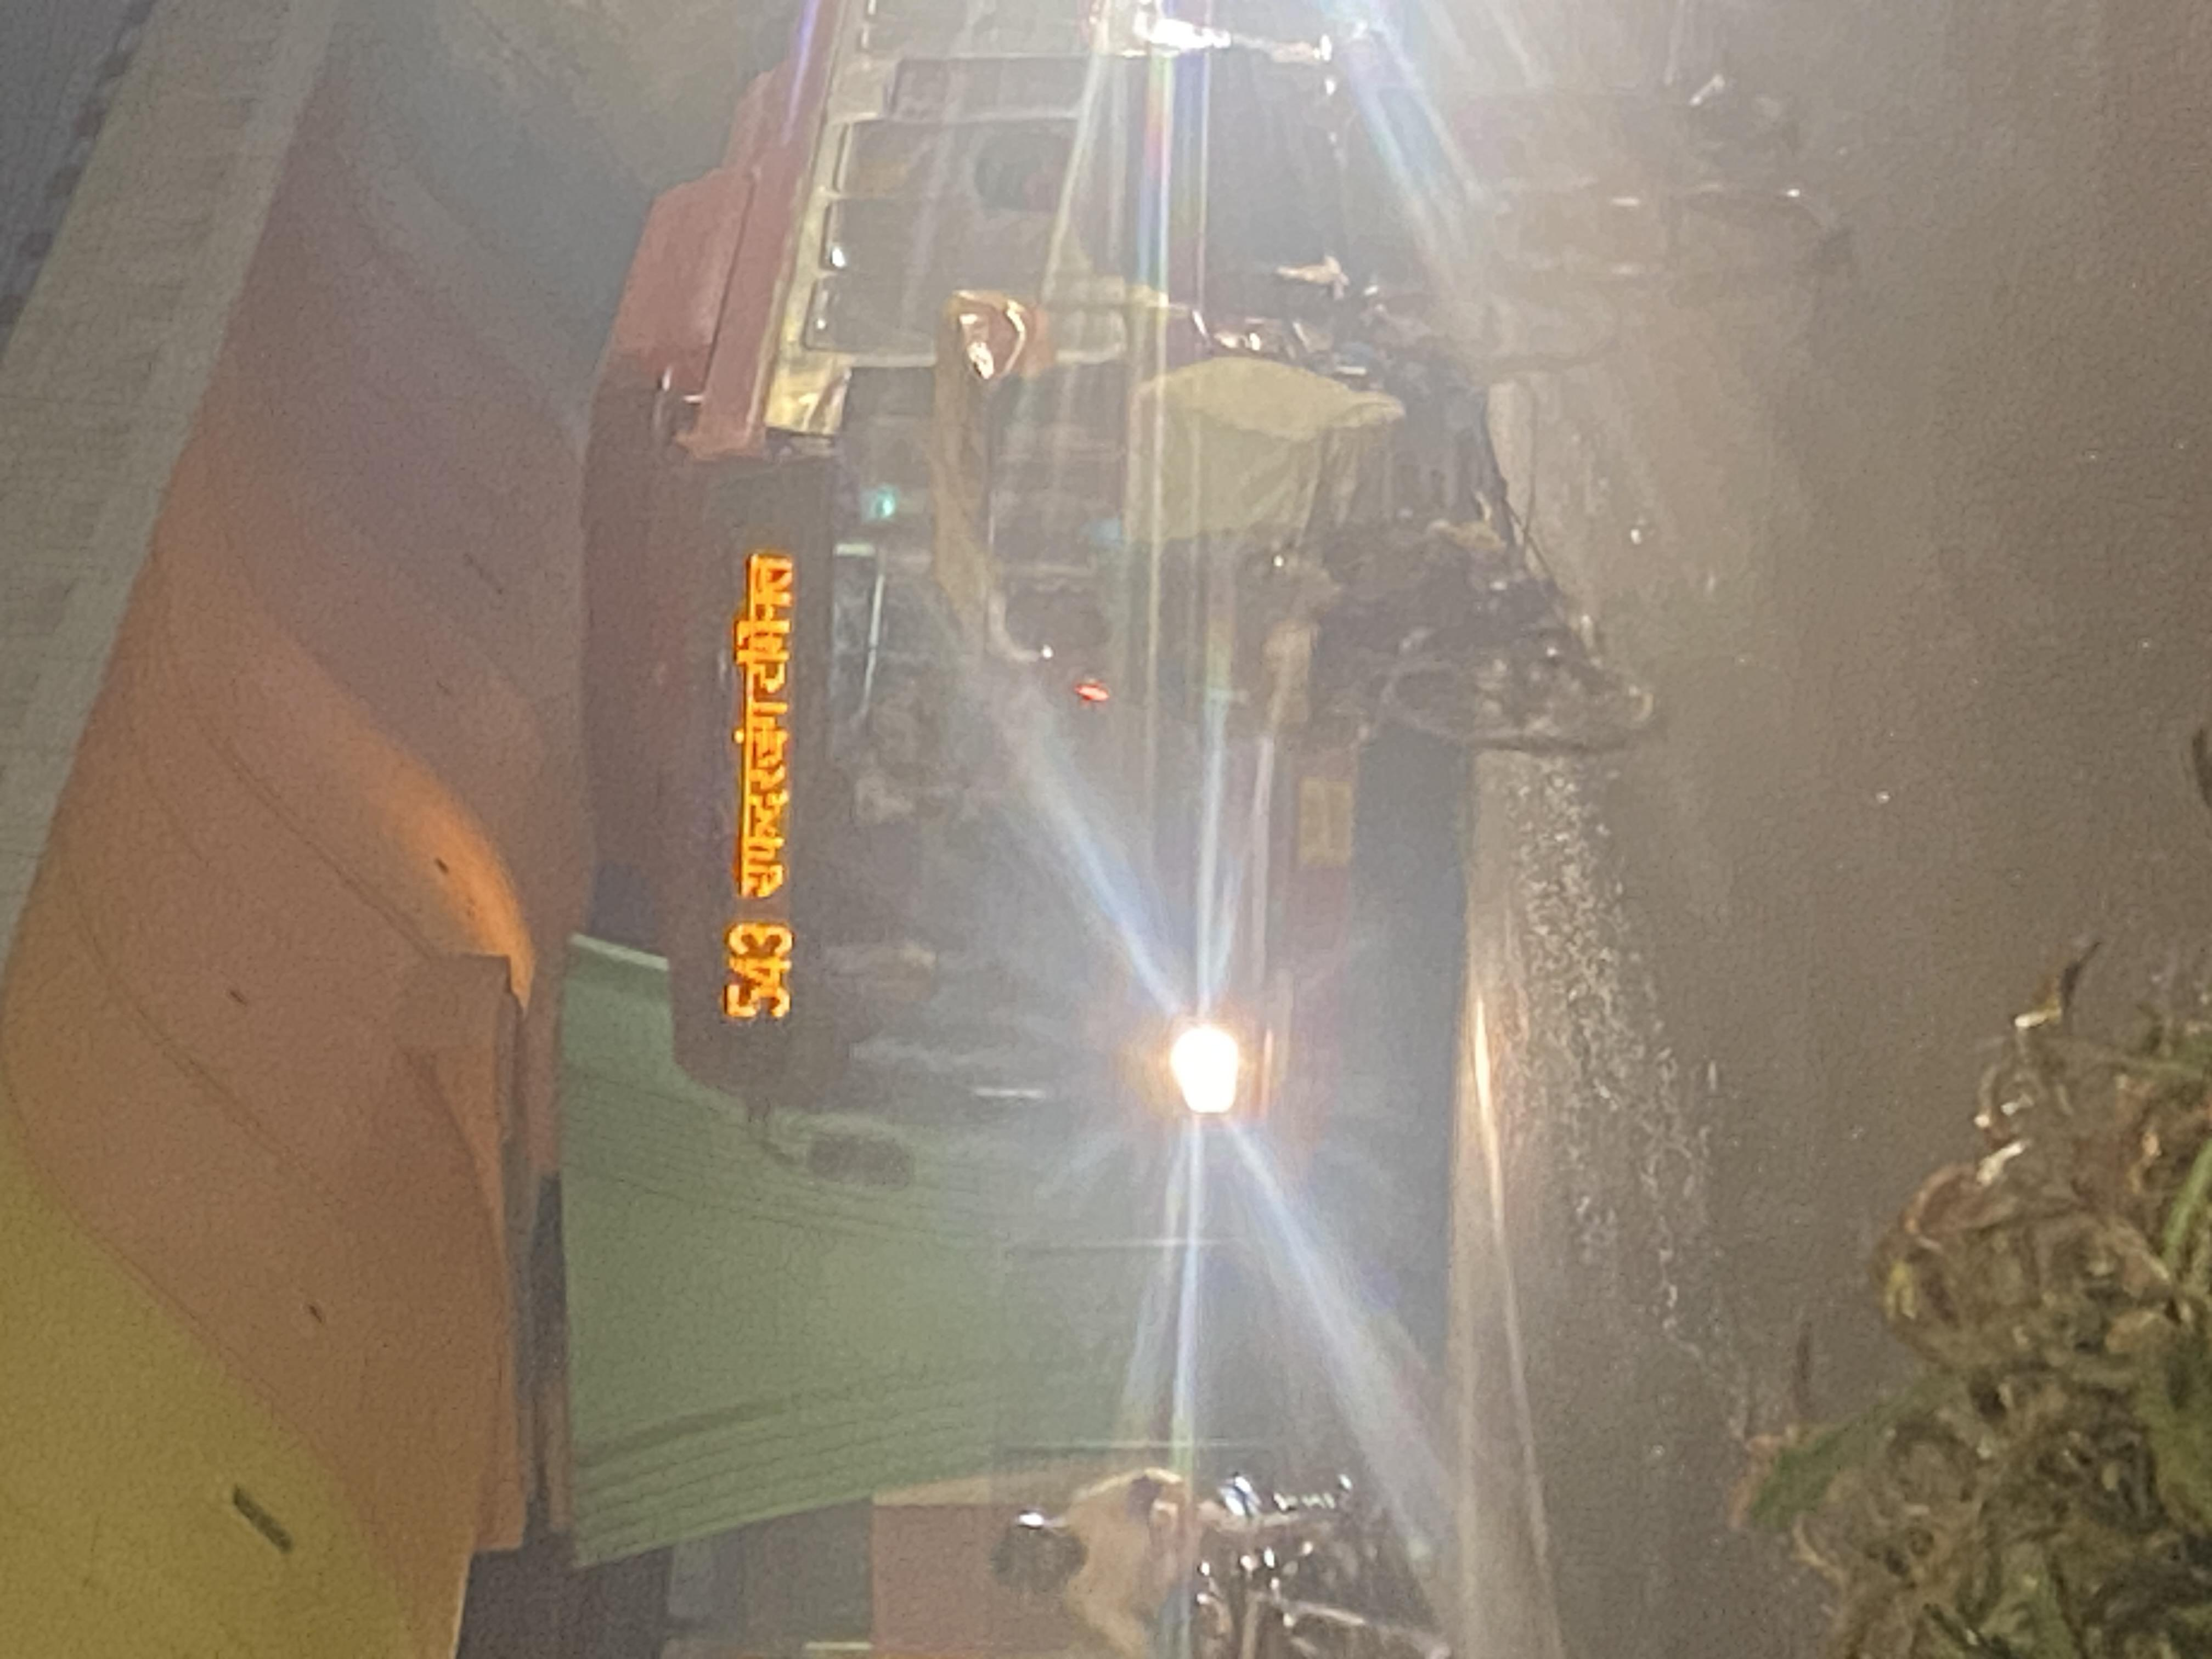Bus: (597, 291, 1360, 1218)
Display Board: (669, 444, 845, 1060)
